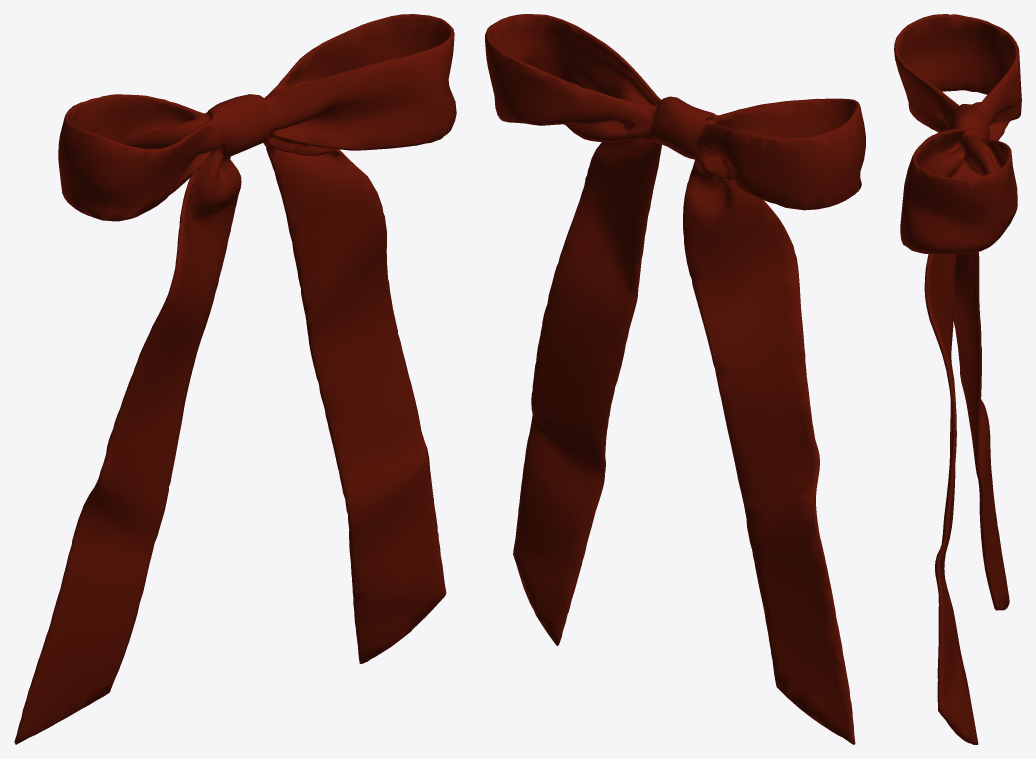
The model's file is ribon_custom_material.glb.
3 views of the same model, side by side, from view 1: azimuth 30°, elevation 25°; view 2: azimuth 150°, elevation 25°; view 3: azimuth 270°, elevation 25° (orthographic). The views are drawn at different scales.
Visible parts, largest first — view 1: Mesh1.0; view 2: Mesh1.0; view 3: Mesh1.0.
Boxes of the visible parts, x1=… form: Mesh1.0: x1=14, y1=14, x2=456, y2=744; Mesh1.0: x1=485, y1=14, x2=865, y2=744; Mesh1.0: x1=894, y1=14, x2=1021, y2=744.
Size of the model in its own units: 0.1196 by 0.18 by 0.0339.
